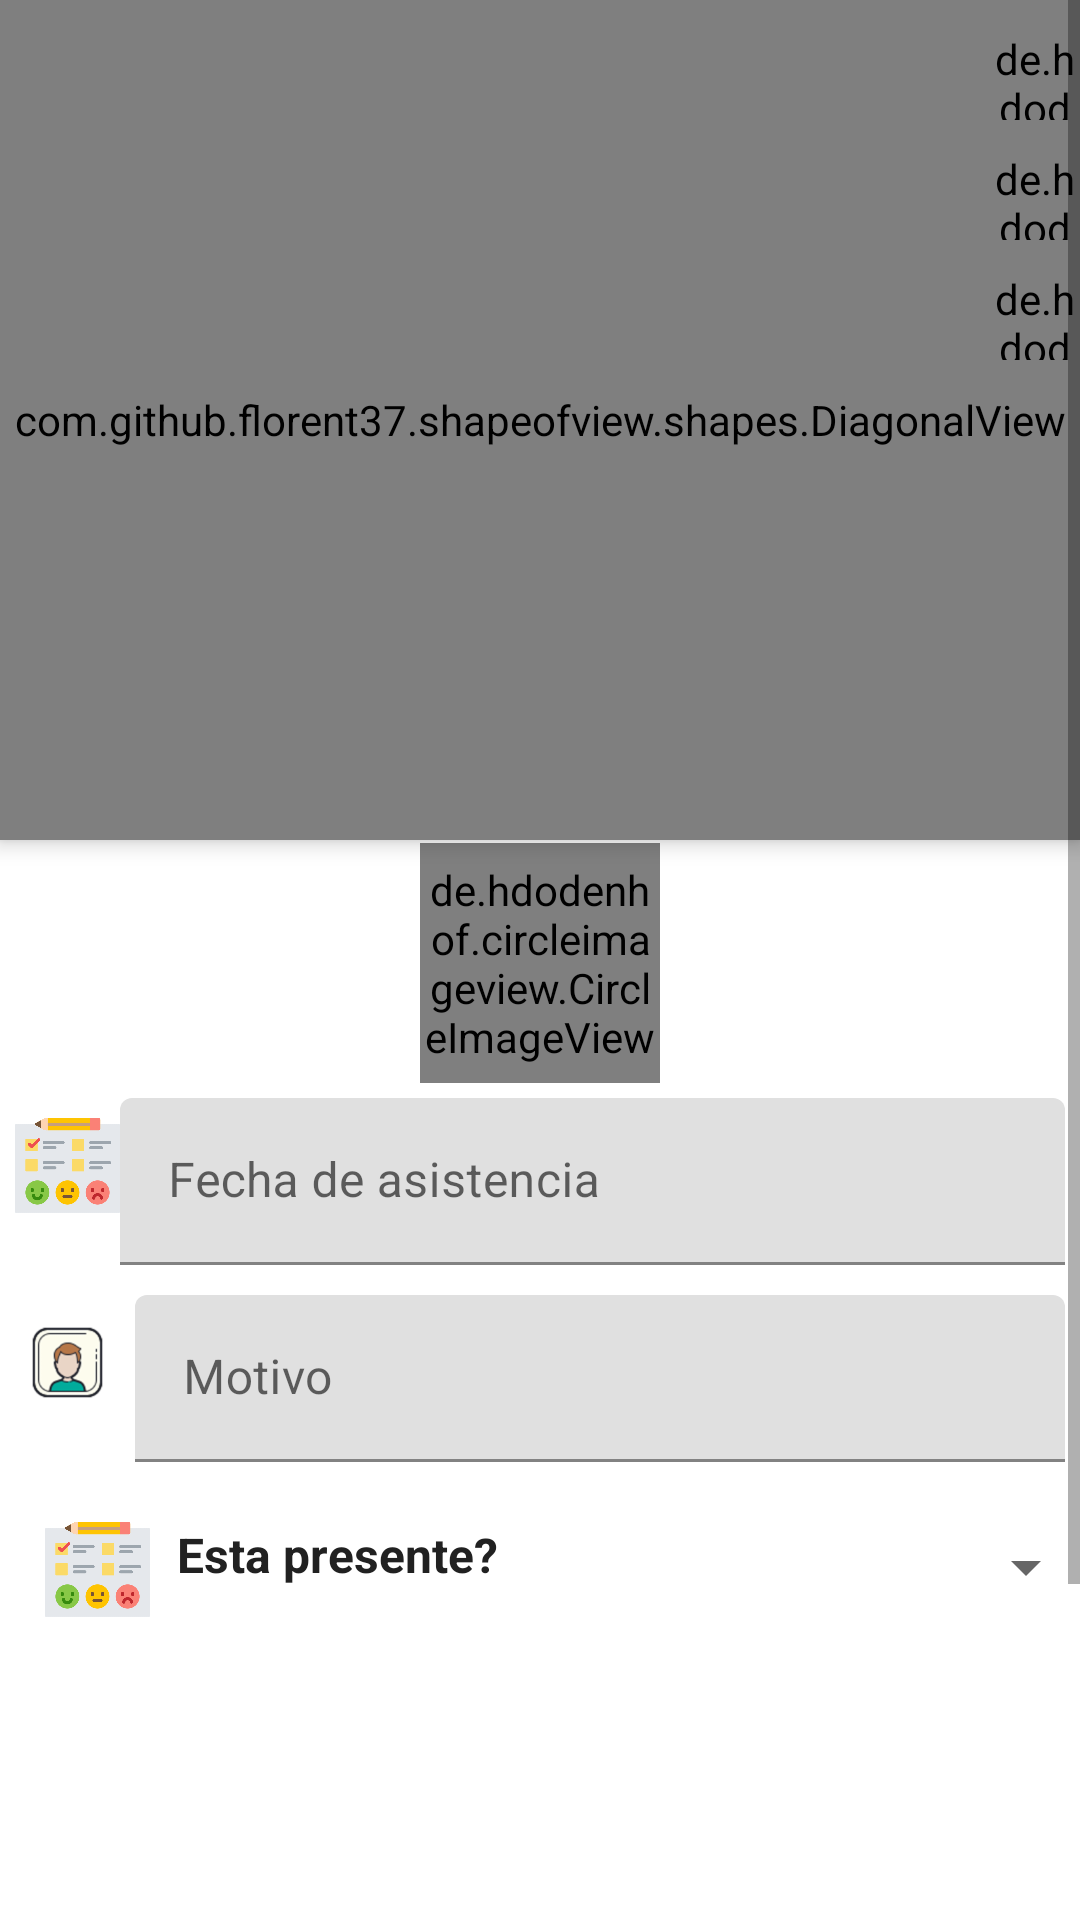

Icon bounding boxes for this 1080×1920 phone screenshot, format (x1, y1, x2, y2):
nombre: (32, 1327, 103, 1398)
satisfaccion: (15, 1118, 120, 1213), (45, 1522, 150, 1617)
